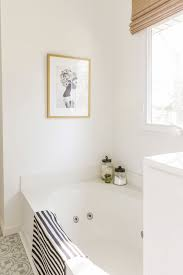bathub: (17, 161, 162, 275)
